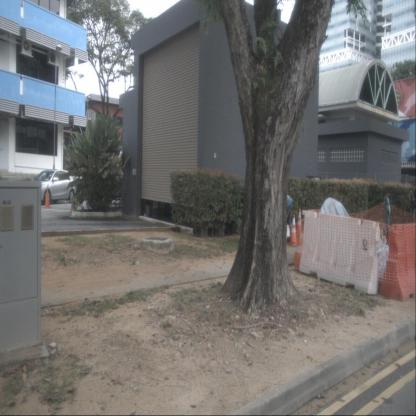movable_object-barrier: (299, 208, 379, 295), (380, 223, 415, 302)
movable_object-trafficcone: (292, 224, 304, 271), (294, 207, 305, 247), (287, 213, 298, 247), (43, 184, 51, 208)
vehicle-car: (24, 169, 76, 206)
